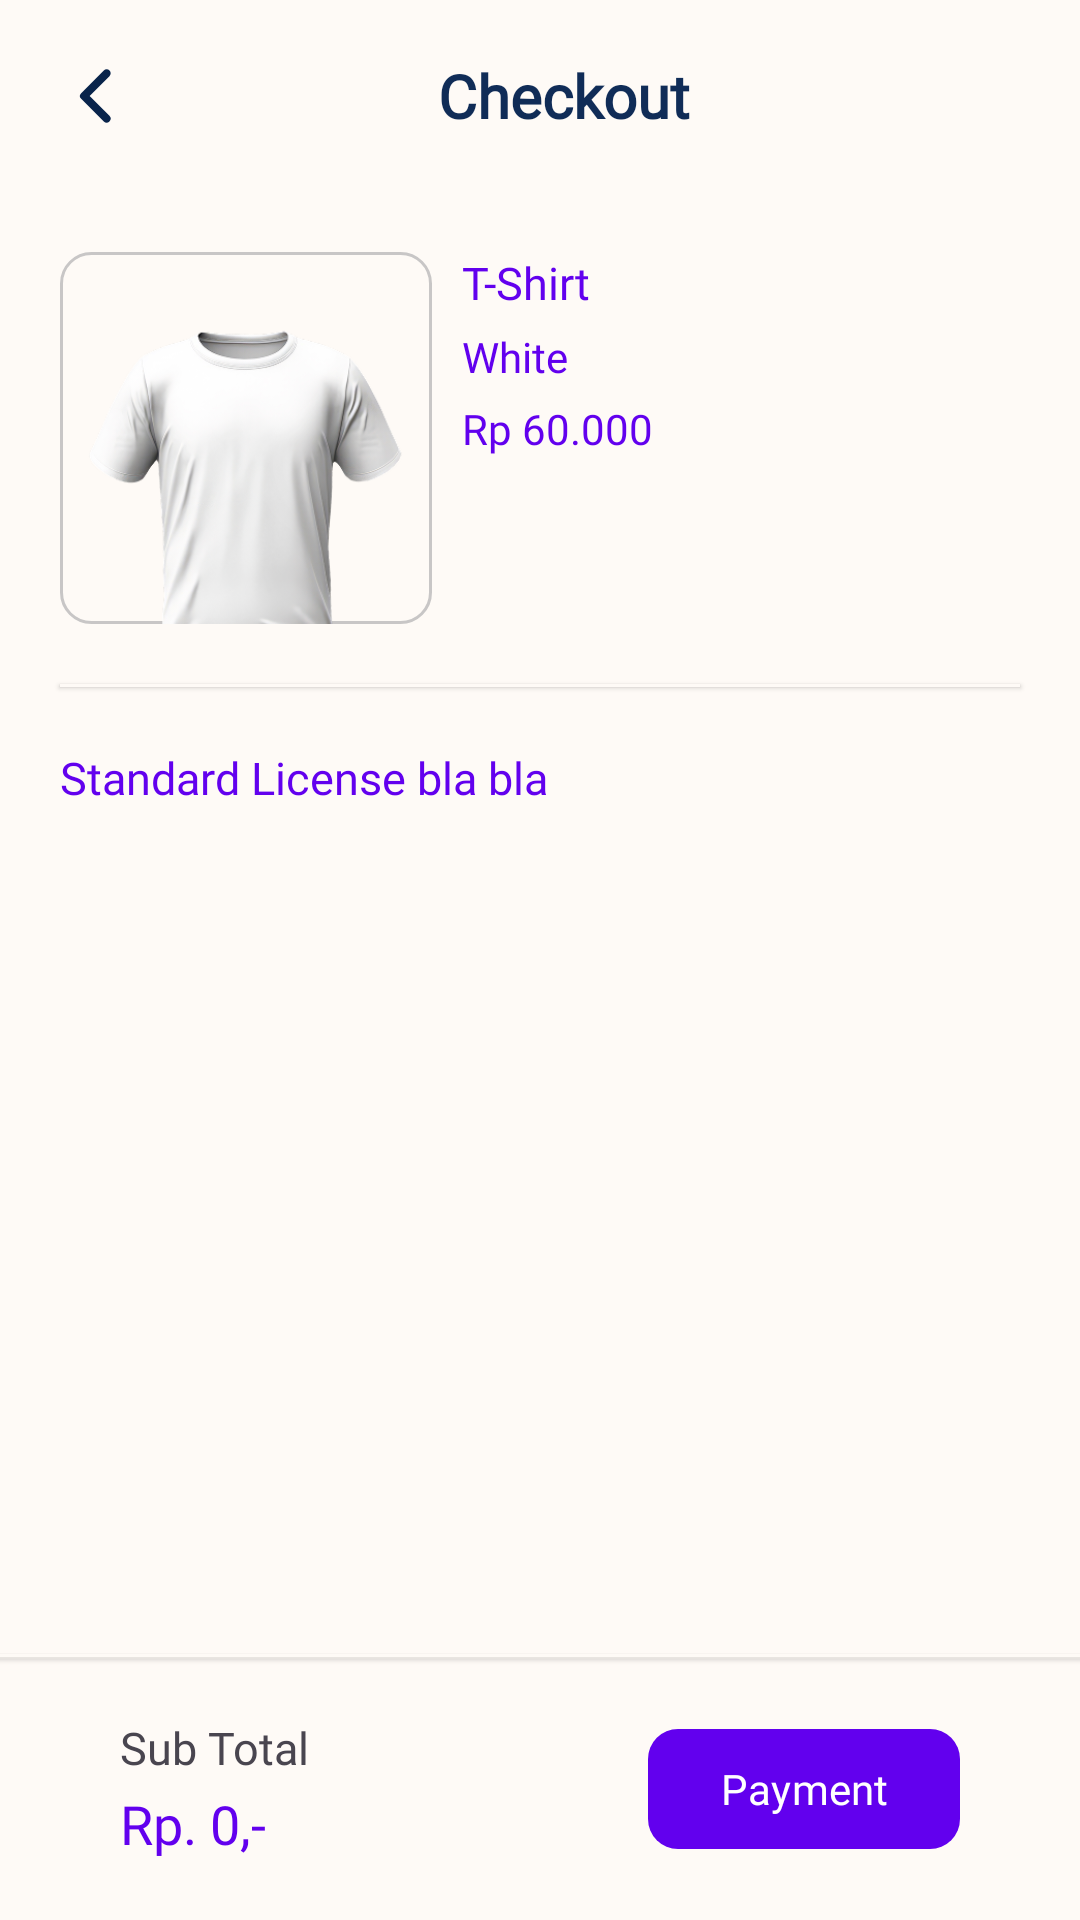

Screen size 1080 × 1920. Icon name, then its center in pixels as (x,y):
left line: (95,96)
